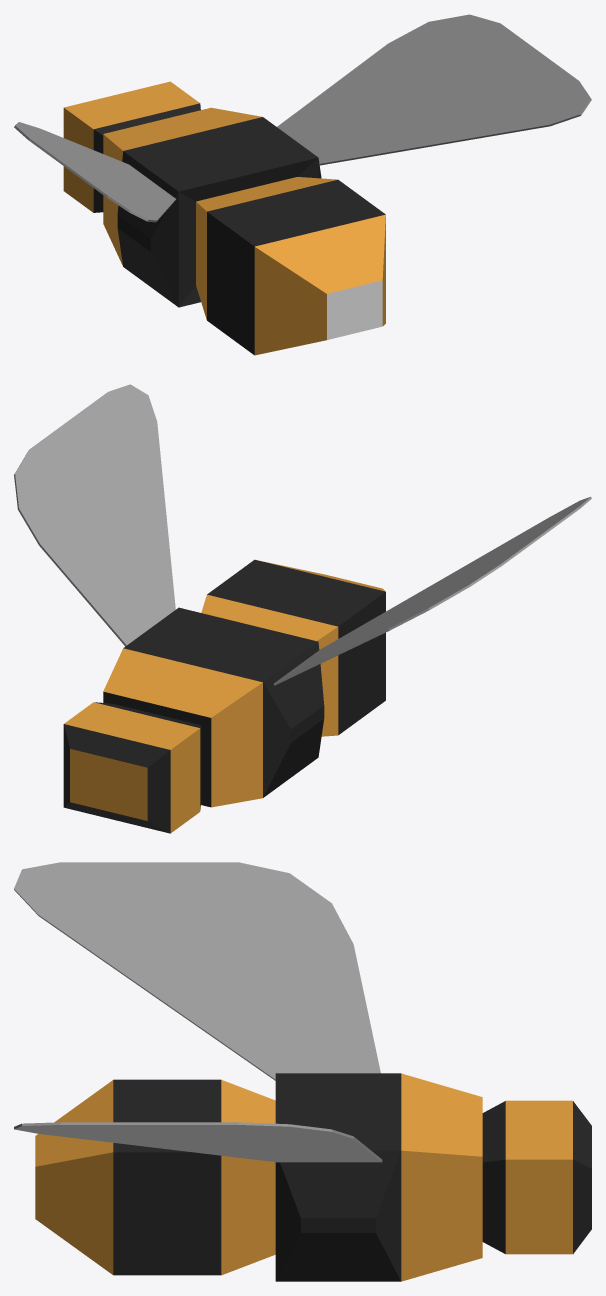
The model's file is bee.glb.
The picture shows the model from 3 angles, top to bottom: view 1: azimuth 30°, elevation 25°; view 2: azimuth 150°, elevation 25°; view 3: azimuth 270°, elevation 25°; orthographic projection. The views are drawn at different scales.
Visible parts, largest first — view 1: body, wing2, wing1; view 2: body, wing2, wing1; view 3: body, wing1, wing2.
Boxes of the visible parts, x1,y1,x2,y2 form: body: (63, 81, 385, 355); wing2: (277, 14, 591, 165); wing1: (14, 122, 175, 222); body: (63, 559, 385, 833); wing2: (14, 384, 175, 646); wing1: (273, 496, 591, 685); body: (35, 1073, 591, 1281); wing1: (14, 862, 380, 1080); wing2: (14, 1122, 382, 1162).
Bounding box in the file's own units: 3.2 × 1.43 × 3.
